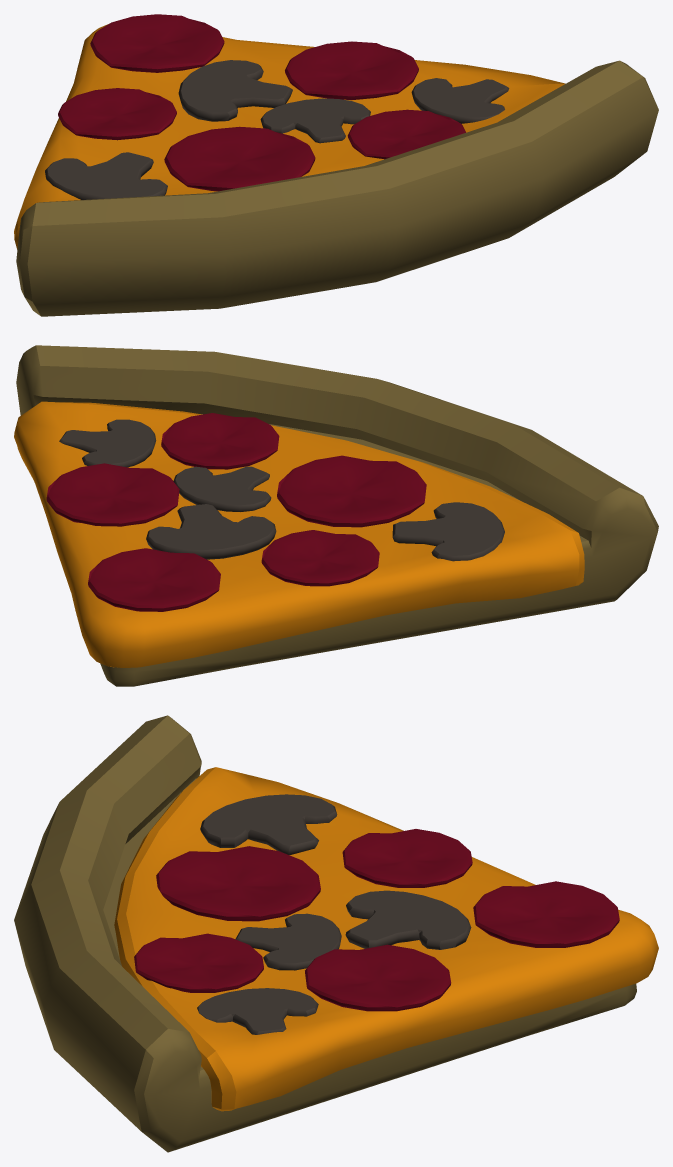
Rendered from Pizza_3.FBX.
The picture shows the model from 3 angles, top to bottom: view 1: azimuth 30°, elevation 25°; view 2: azimuth 150°, elevation 25°; view 3: azimuth 270°, elevation 25°; orthographic projection. The views are drawn at different scales.
Parts seen in each view (by area): view 1: Pizza_3; view 2: Pizza_3; view 3: Pizza_3.
Boxes of the visible parts, x1=… form: Pizza_3: x1=14, y1=14, x2=658, y2=316; Pizza_3: x1=14, y1=345, x2=658, y2=686; Pizza_3: x1=14, y1=715, x2=658, y2=1152.
Size of the model in its own units: 1180 by 939 by 206.
